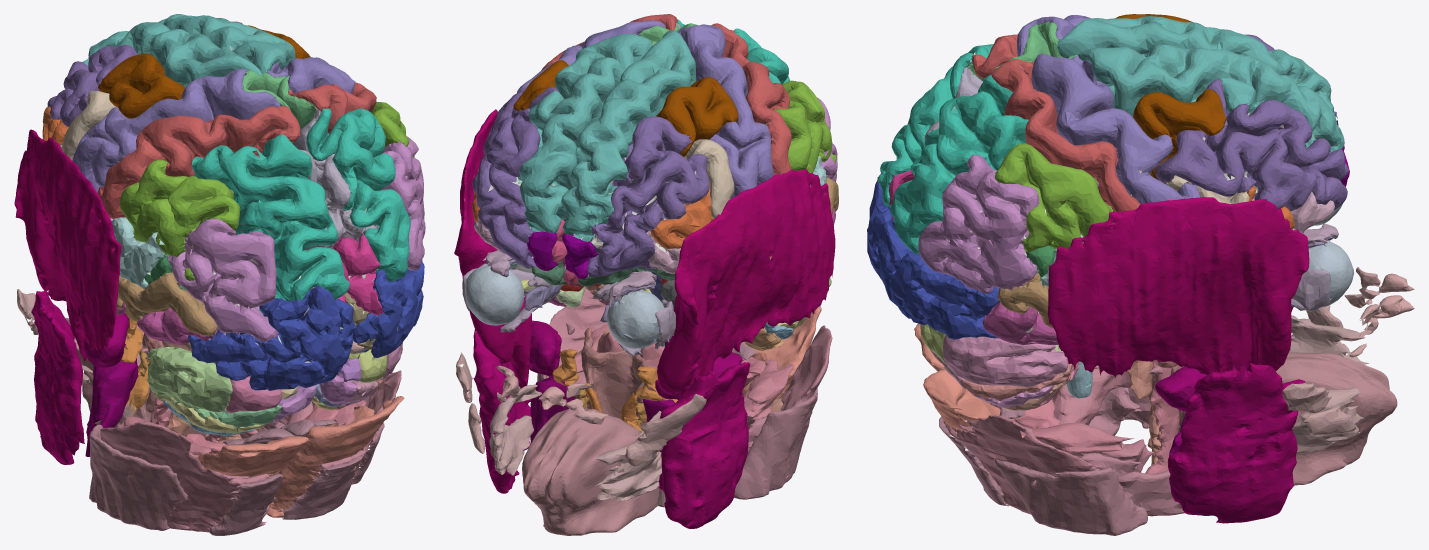
The model's file is spl_brain.glb.
3 renders of one model, left to right at view 1: azimuth 30°, elevation 25°; view 2: azimuth 150°, elevation 25°; view 3: azimuth 270°, elevation 25°, orthographic. The views are drawn at different scales.
Visible parts, largest first — view 1: left temporalis, left superior parietal lobule, left lateral occipital gyrus, right superior parietal lobule, left inferior parietal lobule, left postcentral gyrus, left precentral gyrus, left supramarginal gyrus, left masseter, left splenius capitis, left sternocleidomastoid, left superior frontal gyrus (+38 smaller); view 2: left temporalis, tongue, right superior frontal gyrus, left superior frontal gyrus, left masseter, anterior part of left middle frontal gyrus, anterior part of right middle frontal gyrus, left precentral gyrus, right temporalis, left sternocleidomastoid, left postcentral gyrus, posterior part of left middle frontal gyrus (+37 smaller); view 3: right temporalis, right masseter, anterior part of right middle frontal gyrus, right superior frontal gyrus, right inferior parietal lobule, right superior parietal lobule, right precentral gyrus, left superior frontal gyrus, right sternocleidomastoid, right lateral occipital gyrus, right supramarginal gyrus, tongue (+31 smaller).
Boxes of the visible parts, x1=… form: left temporalis: x1=14, y1=129, x2=121, y2=361; left superior parietal lobule: x1=191, y1=134, x2=349, y2=313; left lateral occipital gyrus: x1=188, y1=285, x2=356, y2=390; right superior parietal lobule: x1=306, y1=108, x2=410, y2=281; left inferior parietal lobule: x1=167, y1=218, x2=278, y2=341; left postcentral gyrus: x1=97, y1=105, x2=300, y2=218; left precentral gyrus: x1=72, y1=68, x2=280, y2=192; left supramarginal gyrus: x1=120, y1=159, x2=239, y2=280; left masseter: x1=31, y1=290, x2=84, y2=464; left splenius capitis: x1=100, y1=422, x2=269, y2=532; left sternocleidomastoid: x1=89, y1=424, x2=187, y2=530; left superior frontal gyrus: x1=82, y1=22, x2=263, y2=87; left temporalis: x1=657, y1=169, x2=835, y2=396; tongue: x1=522, y1=407, x2=661, y2=535; right superior frontal gyrus: x1=517, y1=33, x2=652, y2=233; left superior frontal gyrus: x1=561, y1=30, x2=696, y2=241; left masseter: x1=658, y1=362, x2=750, y2=528; anterior part of left middle frontal gyrus: x1=587, y1=116, x2=709, y2=276; anterior part of right middle frontal gyrus: x1=472, y1=87, x2=559, y2=267; left precentral gyrus: x1=677, y1=24, x2=773, y2=198; right temporalis: x1=454, y1=109, x2=810, y2=405; left sternocleidomastoid: x1=734, y1=388, x2=817, y2=499; left postcentral gyrus: x1=711, y1=23, x2=791, y2=175; posterior part of left middle frontal gyrus: x1=656, y1=77, x2=738, y2=156; right temporalis: x1=1048, y1=197, x2=1309, y2=377; right masseter: x1=1167, y1=363, x2=1304, y2=523; anterior part of right middle frontal gyrus: x1=1155, y1=78, x2=1348, y2=211; right superior frontal gyrus: x1=1077, y1=44, x2=1344, y2=152; right inferior parietal lobule: x1=918, y1=154, x2=1039, y2=293; right superior parietal lobule: x1=889, y1=74, x2=1028, y2=254; right precentral gyrus: x1=1031, y1=53, x2=1200, y2=203; left superior frontal gyrus: x1=1057, y1=16, x2=1337, y2=124; right sternocleidomastoid: x1=994, y1=459, x2=1147, y2=535; right lateral occipital gyrus: x1=877, y1=219, x2=999, y2=339; right supramarginal gyrus: x1=994, y1=143, x2=1113, y2=251; tongue: x1=1276, y1=352, x2=1397, y2=485.
Size of the model in its own units: 145 by 186 by 204.
